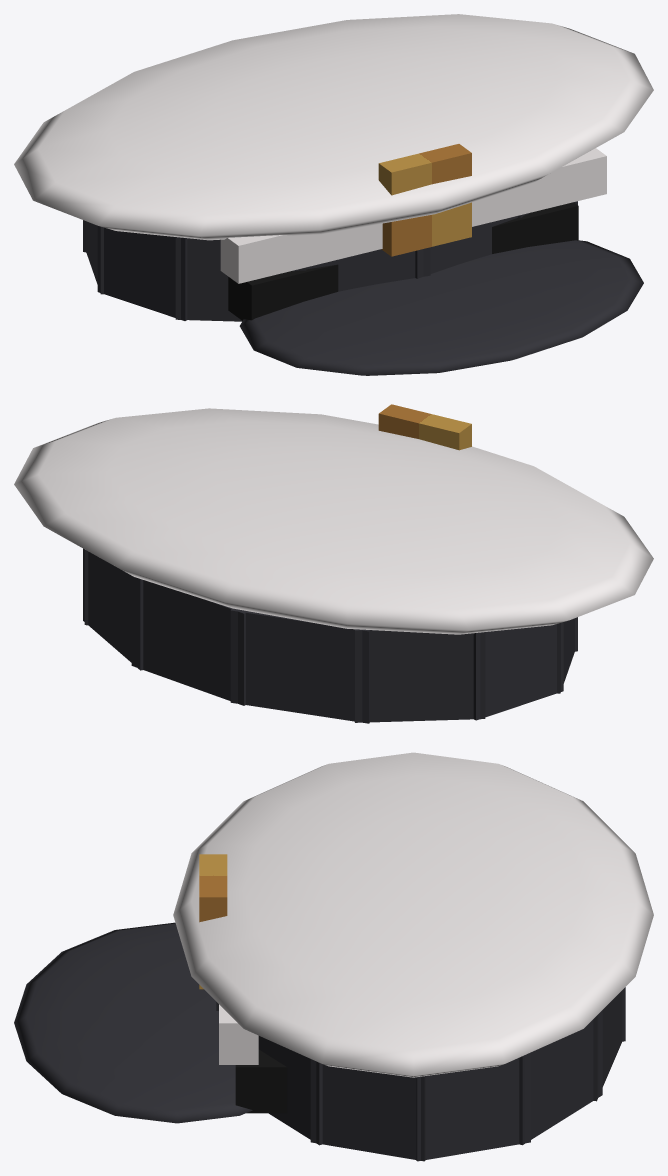
The model's file is CMU3DCMHeadDressBluesWorldCloud.glb.
The picture shows the model from 3 angles, top to bottom: view 1: azimuth 30°, elevation 25°; view 2: azimuth 150°, elevation 25°; view 3: azimuth 270°, elevation 25°; orthographic projection. The views are drawn at different scales.
Visible parts, largest first — view 1: wide continuous white cap roof, projecting dark dress visor, white frontal band, visor sewn attachment, original gold dress-cap insignia, dress cap open dark headband facet 06, dress cap open dark headband facet 07, dress cap open dark headband facet 08, dress cap open dark headband facet 09, dress cap open dark headband facet 05; view 2: wide continuous white cap roof, dress cap open dark headband facet 03, dress cap open dark headband facet 04, dress cap open dark headband facet 02, dress cap open dark headband facet 05, dress cap open dark headband facet 01, original gold dress-cap insignia, dress cap open dark headband facet 06; view 3: wide continuous white cap roof, projecting dark dress visor, dress cap open dark headband facet 00, dress cap open dark headband facet 11, dress cap open dark headband facet 01, dress cap open dark headband facet 10, visor sewn attachment, original gold dress-cap insignia, dress cap open dark headband facet 02, white frontal band.
Boxes of the visible parts, bbox=[...] form: wide continuous white cap roof: bbox=[14, 14, 653, 240]; projecting dark dress visor: bbox=[239, 240, 643, 375]; white frontal band: bbox=[220, 148, 606, 283]; visor sewn attachment: bbox=[228, 202, 578, 320]; original gold dress-cap insignia: bbox=[378, 144, 471, 256]; dress cap open dark headband facet 06: bbox=[97, 226, 187, 320]; dress cap open dark headband facet 07: bbox=[175, 237, 306, 321]; dress cap open dark headband facet 08: bbox=[292, 247, 430, 291]; dress cap open dark headband facet 09: bbox=[415, 213, 529, 278]; dress cap open dark headband facet 05: bbox=[86, 221, 103, 294]; wide continuous white cap roof: bbox=[14, 408, 653, 634]; dress cap open dark headband facet 03: bbox=[230, 609, 369, 723]; dress cap open dark headband facet 04: bbox=[354, 629, 485, 722]; dress cap open dark headband facet 02: bbox=[131, 576, 247, 705]; dress cap open dark headband facet 05: bbox=[473, 622, 563, 720]; dress cap open dark headband facet 01: bbox=[83, 548, 143, 670]; original gold dress-cap insignia: bbox=[378, 404, 471, 450]; dress cap open dark headband facet 06: bbox=[557, 618, 574, 693]; wide continuous white cap roof: bbox=[173, 752, 653, 1077]; projecting dark dress visor: bbox=[14, 922, 252, 1123]; dress cap open dark headband facet 00: bbox=[416, 1052, 530, 1161]; dress cap open dark headband facet 11: bbox=[310, 1059, 425, 1161]; dress cap open dark headband facet 01: bbox=[519, 1010, 602, 1145]; dress cap open dark headband facet 10: bbox=[258, 1036, 322, 1145]; visor sewn attachment: bbox=[235, 1049, 287, 1113]; original gold dress-cap insignia: bbox=[199, 854, 227, 989]; dress cap open dark headband facet 02: bbox=[593, 990, 622, 1101]; white frontal band: bbox=[219, 1004, 258, 1064].
Size of the model in its own units: 0.464 by 0.11 by 0.39.
4 materials, 1 textured.
